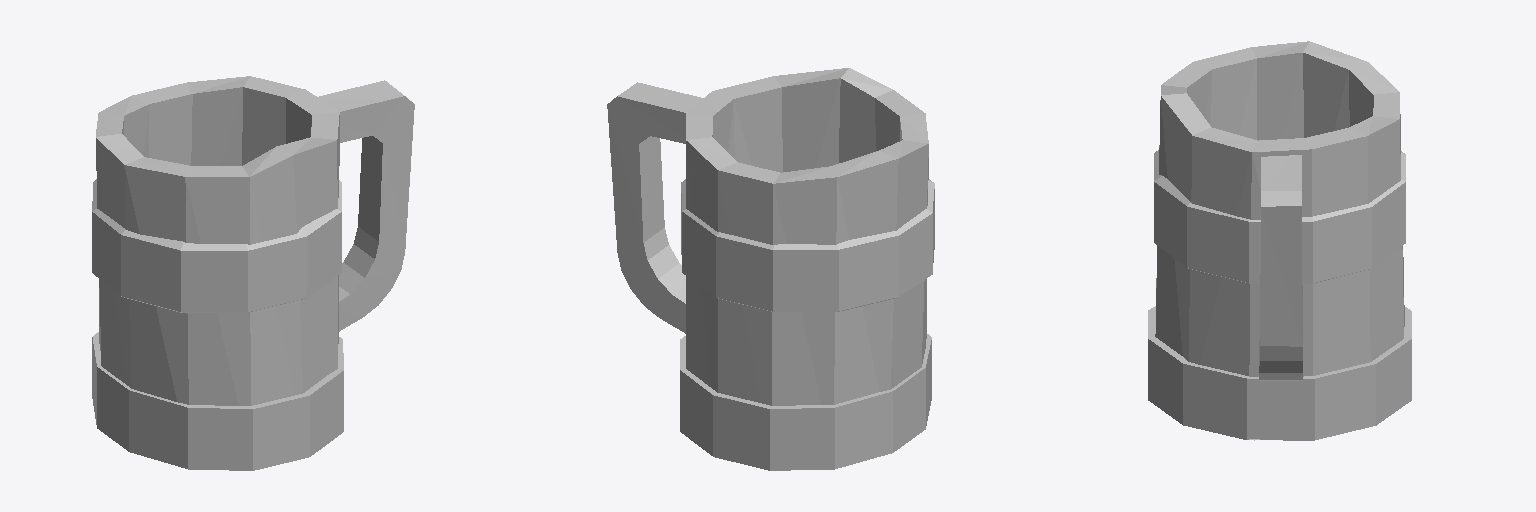
The model's file is Mug.obj.
3 renders of one model, left to right at view 1: azimuth 30°, elevation 25°; view 2: azimuth 150°, elevation 25°; view 3: azimuth 270°, elevation 25°, orthographic.
Visible parts, largest first — view 1: Mug_Cylinder.068; view 2: Mug_Cylinder.068; view 3: Mug_Cylinder.068.
Part boxes in pixels (x1,y1,x2,y2): Mug_Cylinder.068: (92, 76, 414, 470); Mug_Cylinder.068: (607, 68, 934, 470); Mug_Cylinder.068: (1148, 41, 1411, 440).
Bounding box in the file's own units: 0.1921 × 0.1839 × 0.1468.